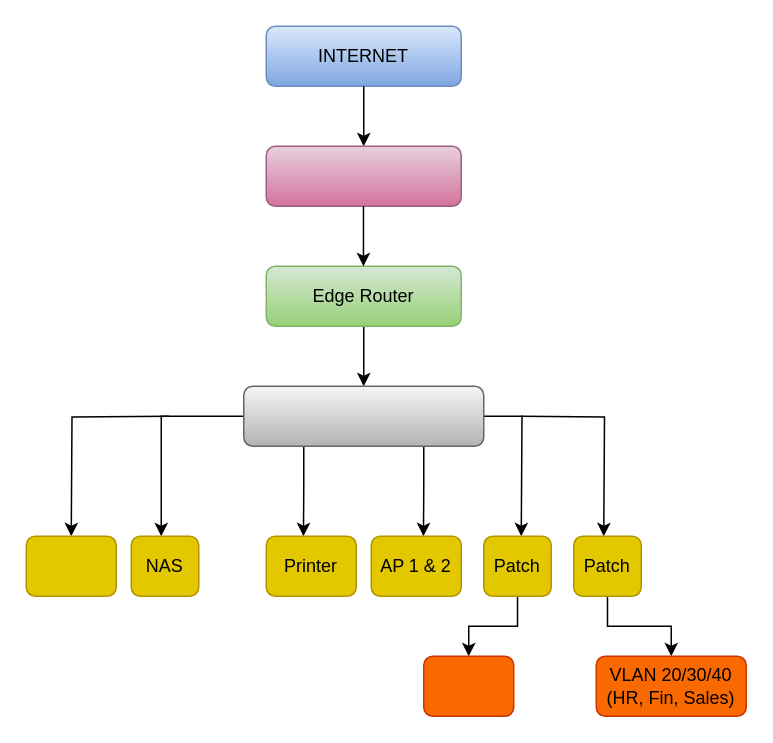
This 773x743 diagram has some shape labels left out. The shapes that lost their labels are listed below. From the top down, each one's box as (x1, y1, x2, y2) in pixels, then its label:
(265, 145, 461, 206): ISP Fiber Modem
(242, 385, 484, 446): 48-Port Managed Switch
(25, 535, 116, 596): Server
(422, 655, 514, 716): VLAN 10 (IT DEPT)
